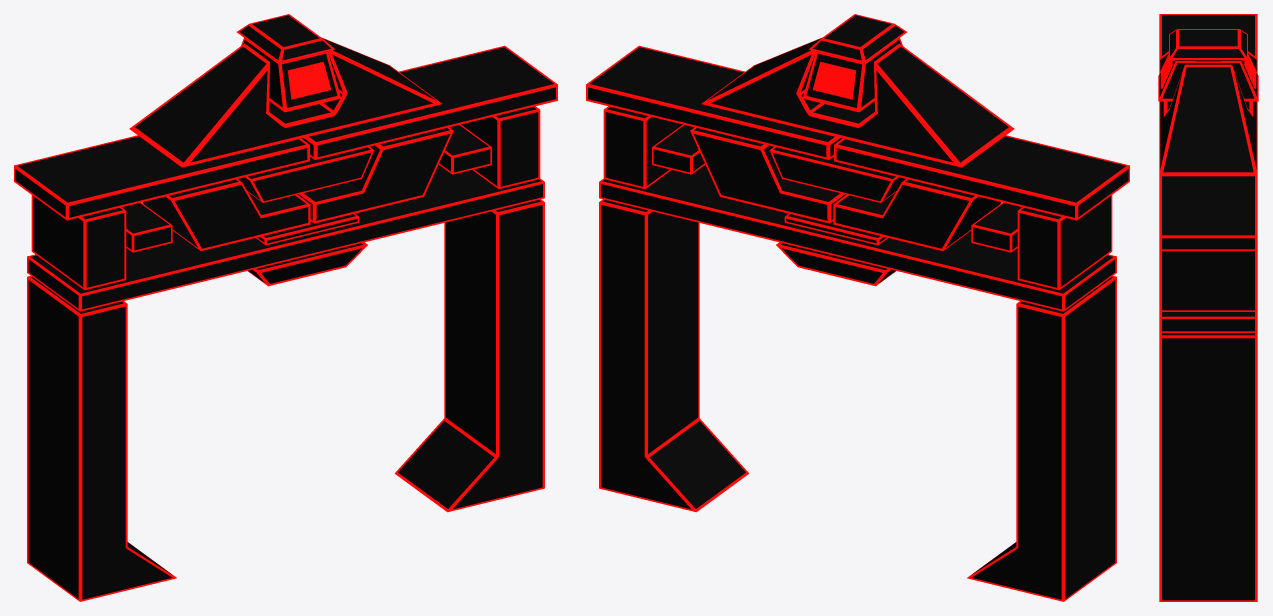
The model's file is recognizer.glb.
The picture shows the model from 3 angles, left to right: view 1: azimuth 30°, elevation 25°; view 2: azimuth 150°, elevation 25°; view 3: azimuth 270°, elevation 25°; orthographic projection. The views are drawn at different scales.
Parts seen in each view (by area): view 1: Bottom_Middle_Part_Black_Material_0, Bottom_Middle_Part_Emission_Outer_0; view 2: Bottom_Middle_Part_Black_Material_0, Bottom_Middle_Part_Emission_Outer_0; view 3: Bottom_Middle_Part_Black_Material_0, Bottom_Middle_Part_Emission_Outer_0.
Boxes of the visible parts, x1,y1,x2,y2 form: Bottom_Middle_Part_Black_Material_0: (15,15,555,599); Bottom_Middle_Part_Emission_Outer_0: (14,14,557,601); Bottom_Middle_Part_Black_Material_0: (588,15,1128,599); Bottom_Middle_Part_Emission_Outer_0: (586,14,1129,601); Bottom_Middle_Part_Black_Material_0: (1159,15,1257,600); Bottom_Middle_Part_Emission_Outer_0: (1158,14,1258,601).
Size of the model in its own units: 2.24 by 2.16 by 0.4276.
